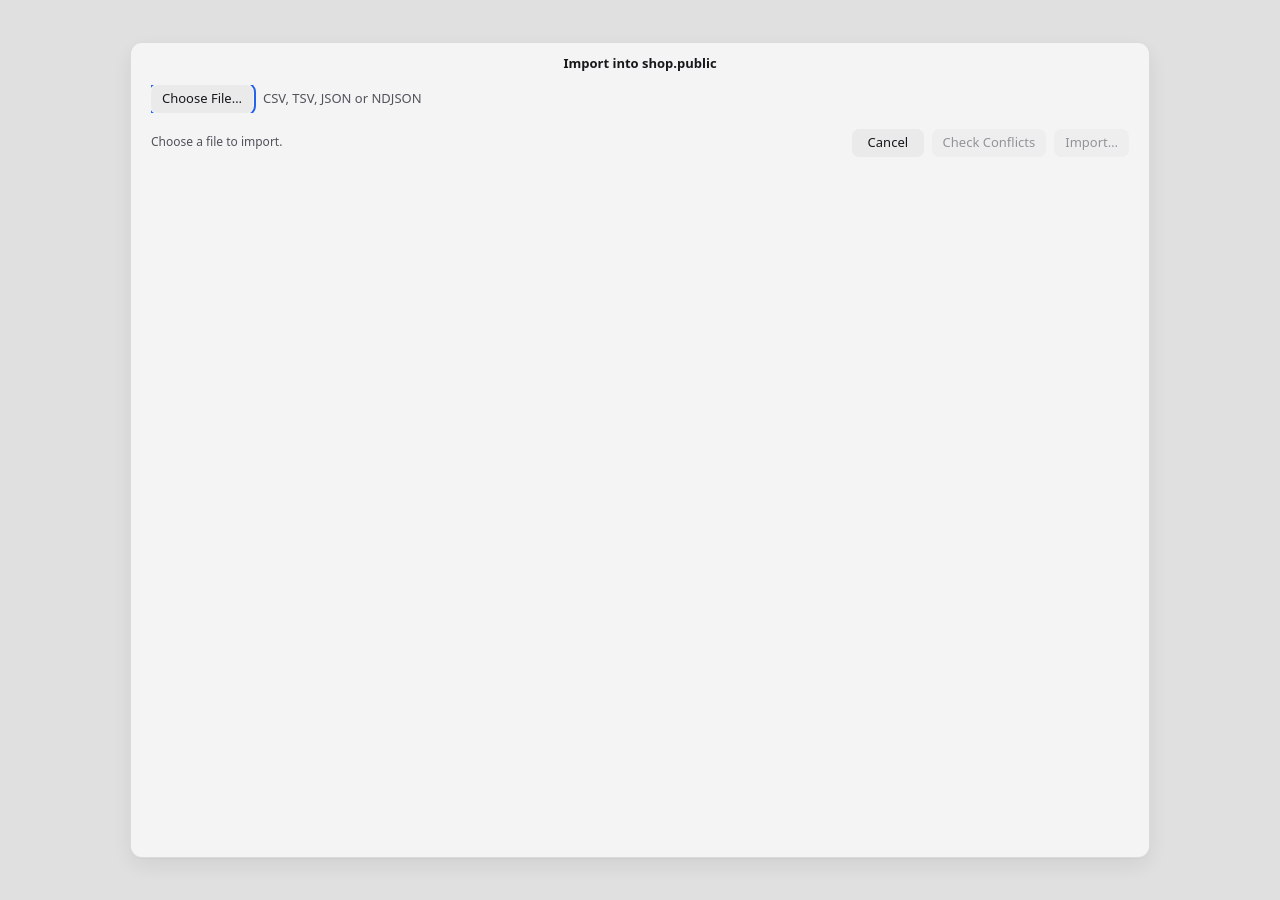
maps by name, highlights rejected values and checks conflicts
Click the button "Choose File…". click: (202, 98)
box: x1=151 y1=84 x2=253 y2=112
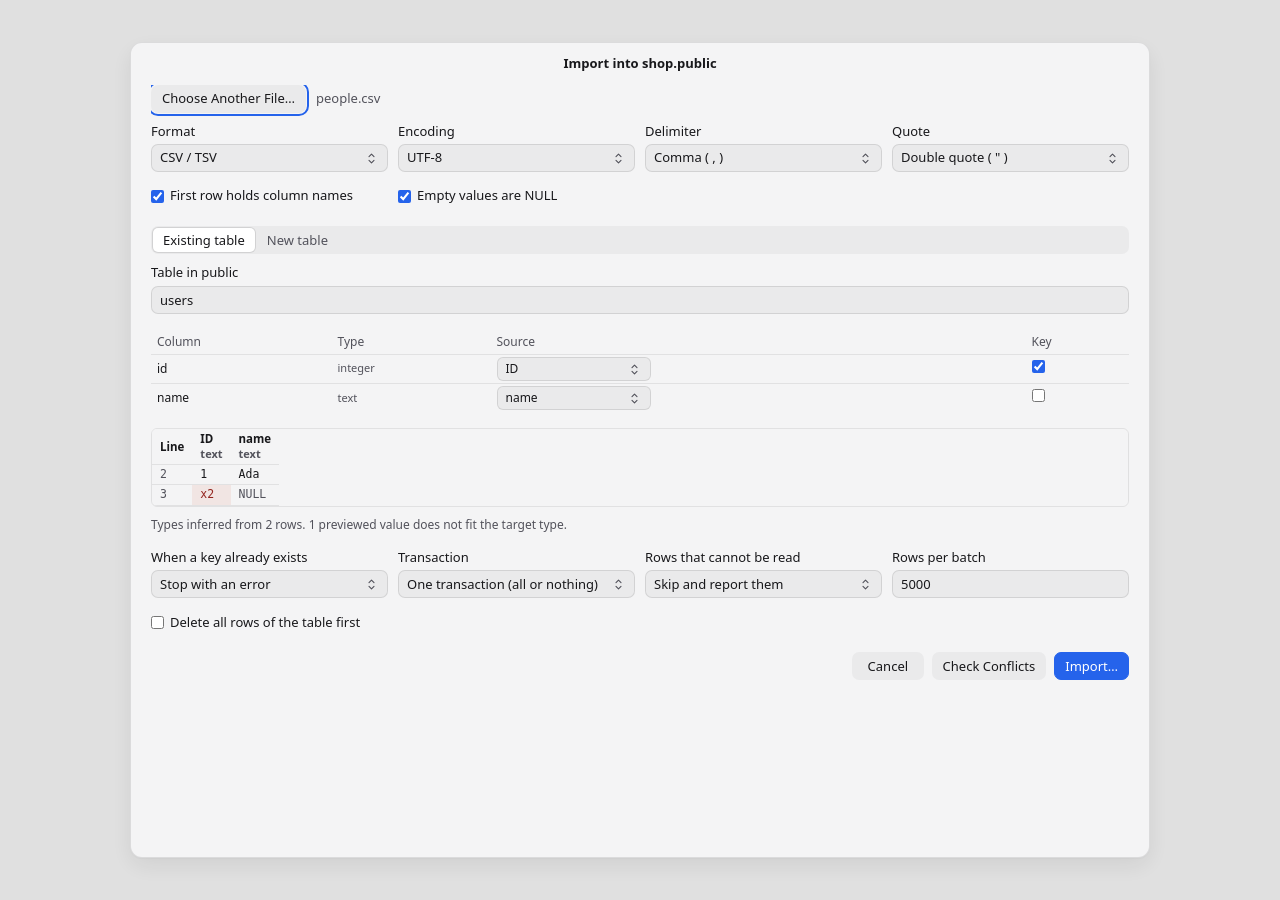
Now the table named "File preview" is shown, box x1=152 y1=429 x2=279 y2=506
Now the dropdown named "Source of id" shows "ID", box x1=498 y1=358 x2=650 y2=380
Now the dropdown named "Source of name" shows "name", box x1=498 y1=387 x2=650 y2=409
Click the button "Check Conflicts". click: (989, 666)
box: x1=932 y1=652 x2=1046 y2=680
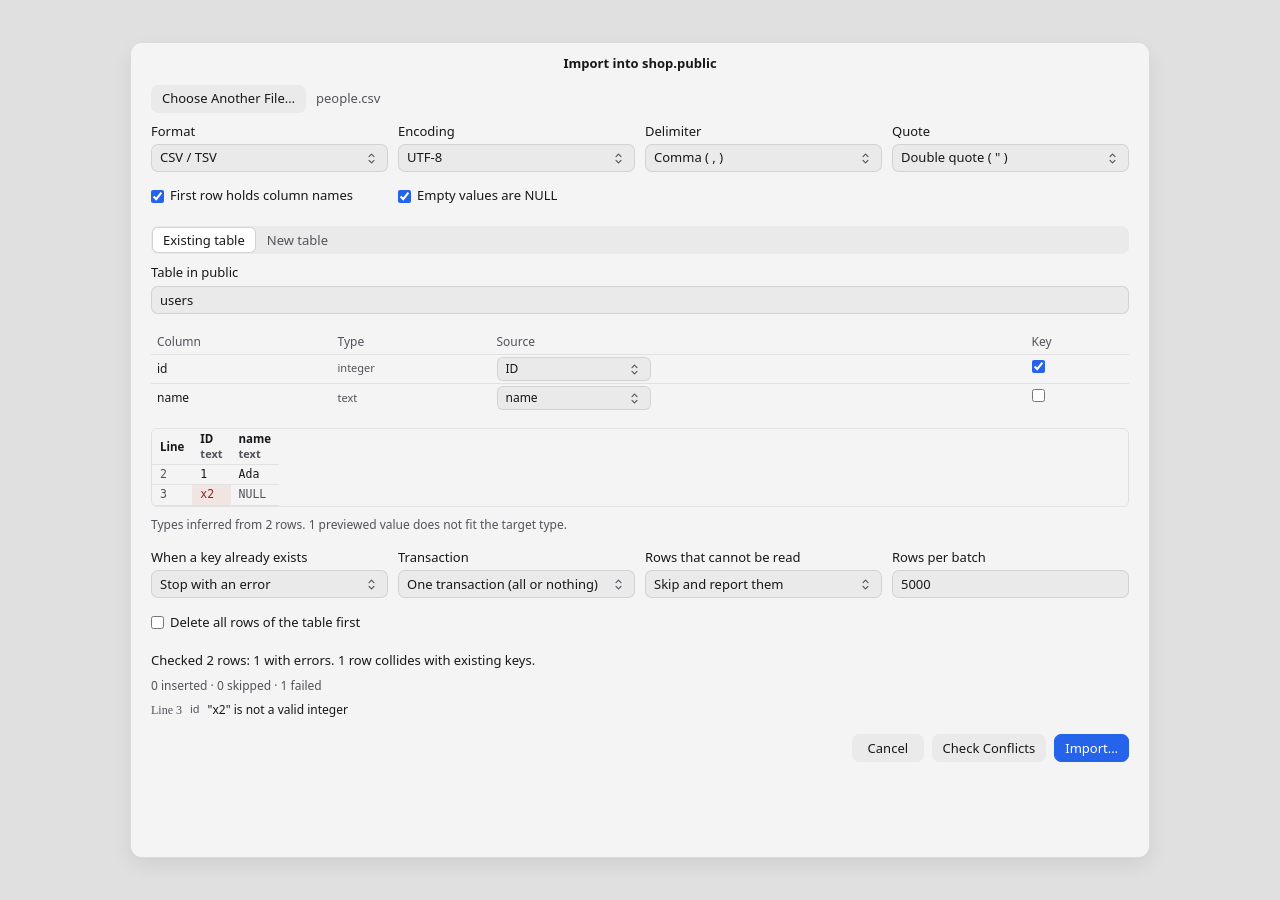
Now the text "Checked 2 rows: 1 with errors. 1 row collides" is shown, box x1=151 y1=652 x2=535 y2=670
Now the list named "Row errors" reads "Line 3 id \"x2\" is not a valid integer", box x1=151 y1=701 x2=348 y2=718
